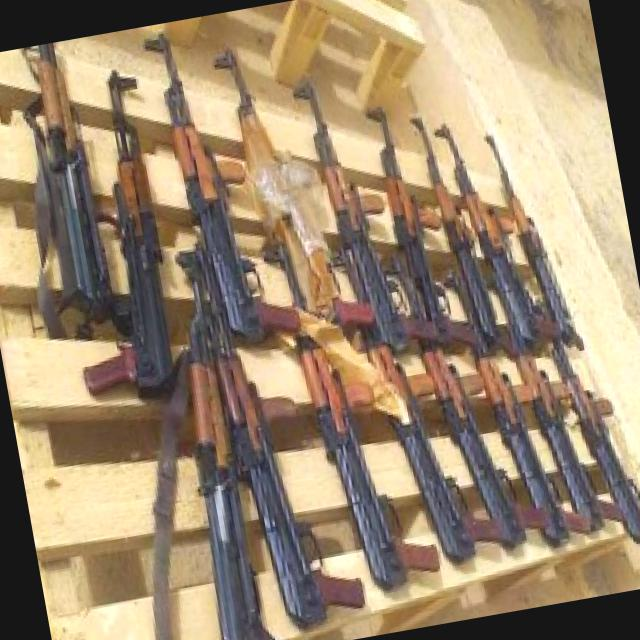long weapon: (31, 49, 192, 409), (285, 317, 425, 613), (136, 26, 263, 350), (294, 70, 416, 357)
